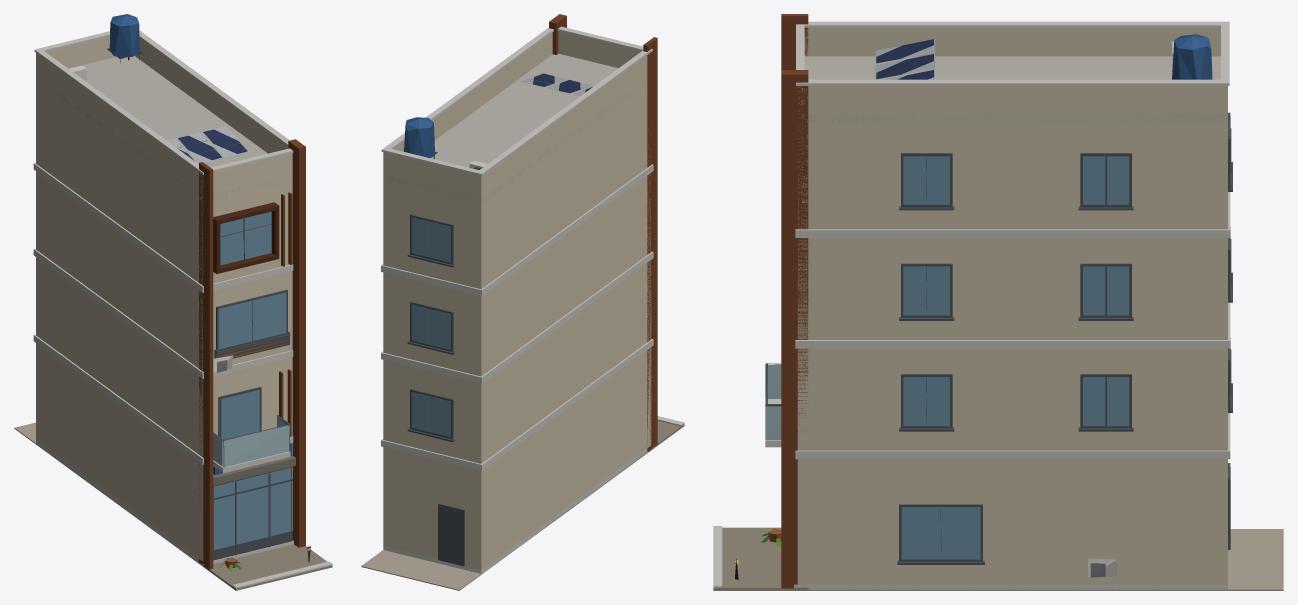
File: bay2_right.glb
The picture shows the model from 3 angles, left to right: view 1: azimuth 30°, elevation 25°; view 2: azimuth 150°, elevation 25°; view 3: azimuth 270°, elevation 25°; orthographic projection. The views are drawn at different scales.
Visible parts, largest first — view 1: body; view 2: body; view 3: body.
Part boxes in pixels (<box>): body: <box>14,14,332,590</box>; body: <box>361,14,684,590</box>; body: <box>713,14,1283,590</box>.
Bounding box in the file's own units: 4.42 × 16.71 × 15.9.
